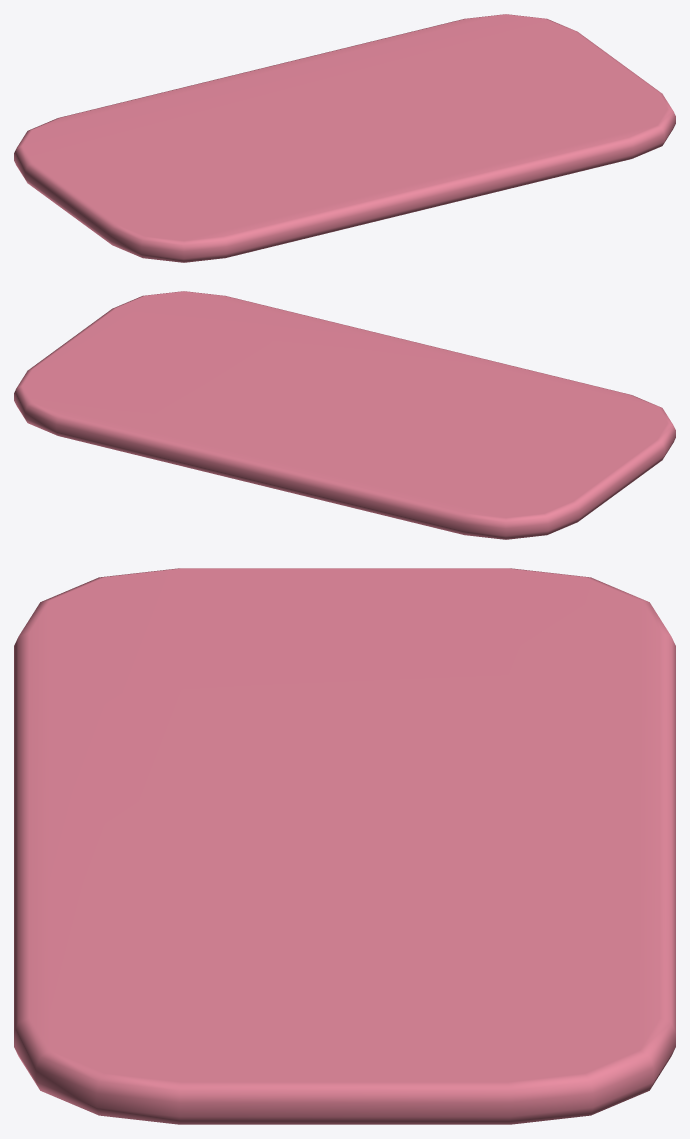
Rendered from Carpet_17.glb.
3 views of the same model, one above another, from view 1: azimuth 30°, elevation 25°; view 2: azimuth 150°, elevation 25°; view 3: azimuth 270°, elevation 25° (orthographic). The views are drawn at different scales.
Parts seen in each view (by area): view 1: Carpet_17; view 2: Carpet_17; view 3: Carpet_17.
Boxes of the visible parts, x1,y1,x2,y2 form: Carpet_17: [14, 14, 675, 262]; Carpet_17: [14, 291, 675, 539]; Carpet_17: [14, 568, 675, 1124].
Bounding box in the file's own units: 1.44 × 0.0538 × 0.7662.
1 material, 1 textured.
